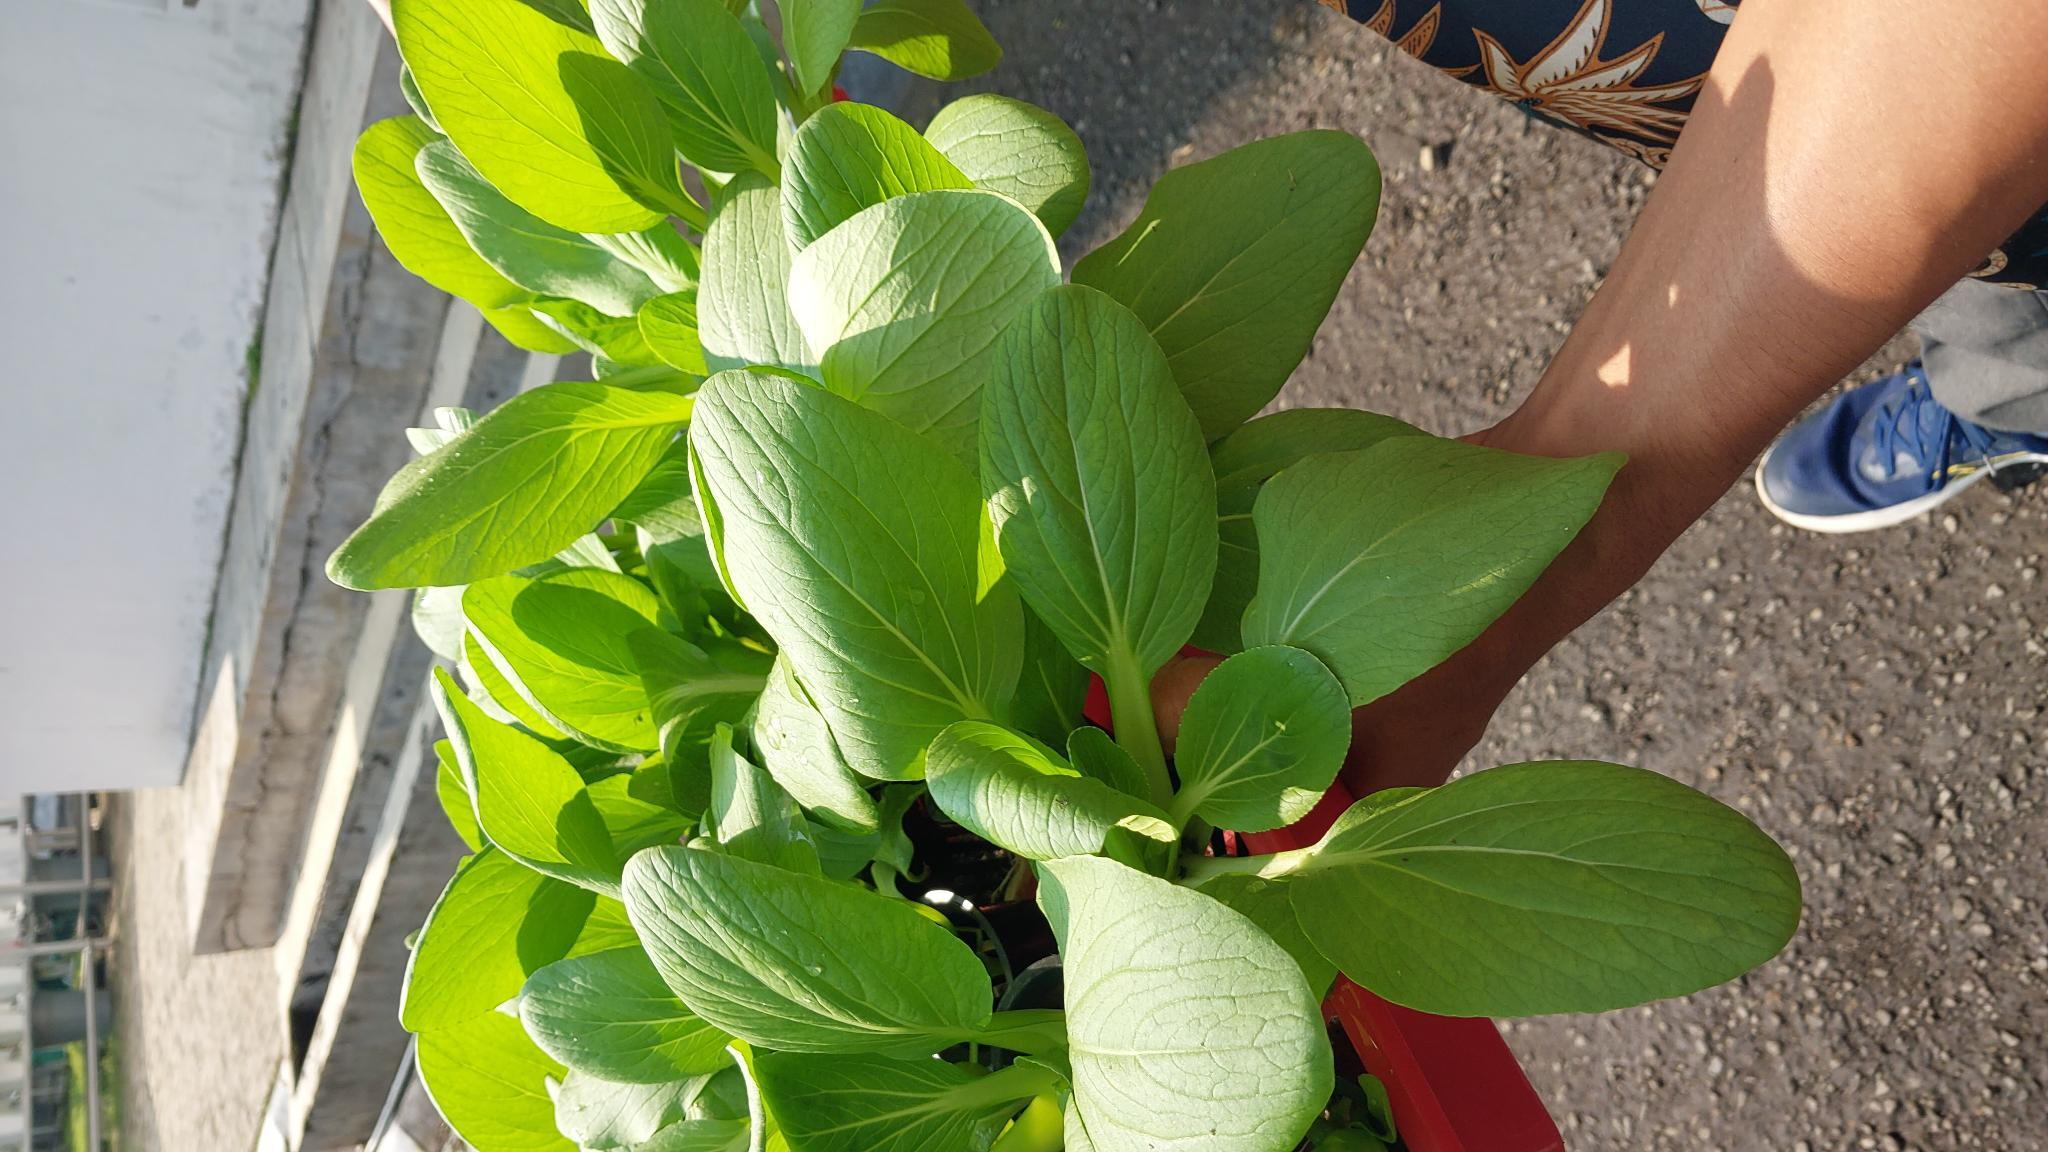Healthy-Pechay: (691, 356, 1030, 802), (1293, 764, 1807, 1013), (1231, 416, 1637, 713), (1079, 124, 1377, 447), (982, 284, 1201, 699), (324, 376, 698, 592), (1044, 854, 1315, 1152), (620, 840, 999, 1051), (404, 837, 654, 1152), (783, 191, 1055, 436), (395, 128, 689, 347), (425, 664, 668, 899), (481, 567, 727, 761), (730, 1021, 1054, 1146), (1160, 648, 1350, 855), (512, 944, 753, 1097), (923, 716, 1139, 881), (551, 53, 736, 226), (776, 98, 982, 245), (737, 658, 897, 841), (921, 91, 1092, 236), (542, 1042, 753, 1152), (695, 180, 806, 383)
